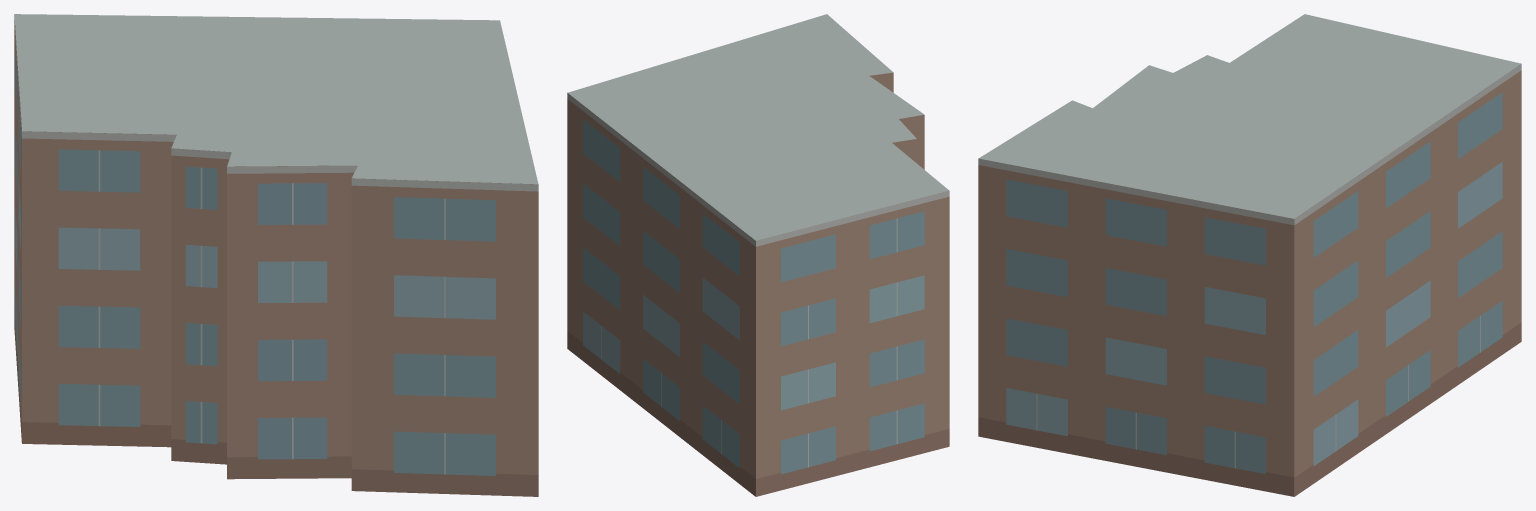
Rendered from survey-upis-33000115.glb.
The picture shows the model from 3 angles, left to right: view 1: azimuth 30°, elevation 25°; view 2: azimuth 150°, elevation 25°; view 3: azimuth 270°, elevation 25°; orthographic projection. The views are drawn at different scales.
Parts seen in each view (by area): view 1: survey-upis-33000115.tmp; view 2: survey-upis-33000115.tmp; view 3: survey-upis-33000115.tmp.
Boxes of the visible parts, bbox=[...] form: survey-upis-33000115.tmp: bbox=[14, 14, 538, 496]; survey-upis-33000115.tmp: bbox=[567, 14, 949, 496]; survey-upis-33000115.tmp: bbox=[978, 14, 1521, 496].
Bounding box in the file's own units: 16.61 × 10.5 × 18.61.
